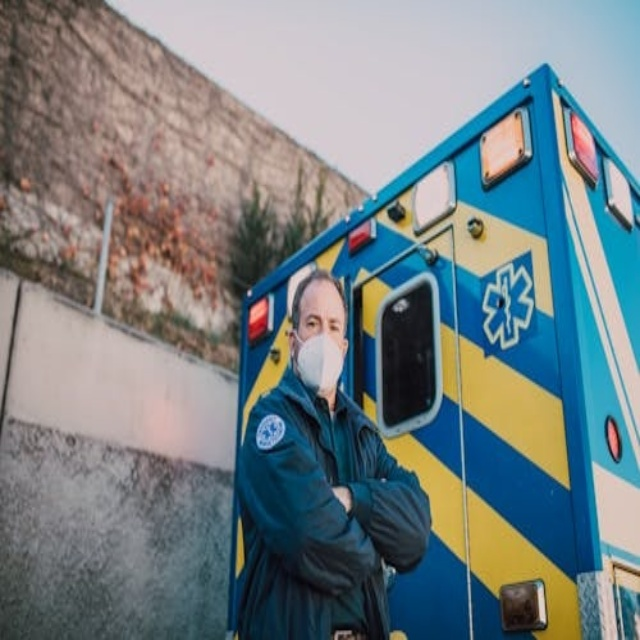Mascara: (293, 332, 345, 393)
Sin_gafas: (300, 306, 343, 342)
